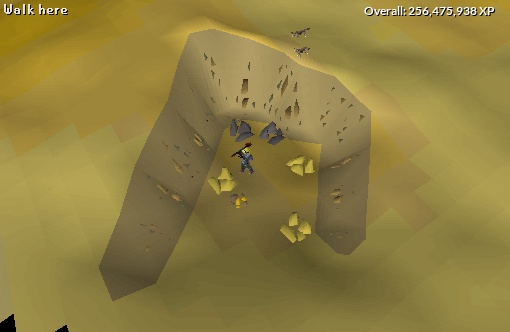depleted: (228, 115, 256, 143), (259, 120, 288, 146)
gold: (277, 209, 320, 251), (281, 152, 325, 180), (204, 167, 241, 197)
